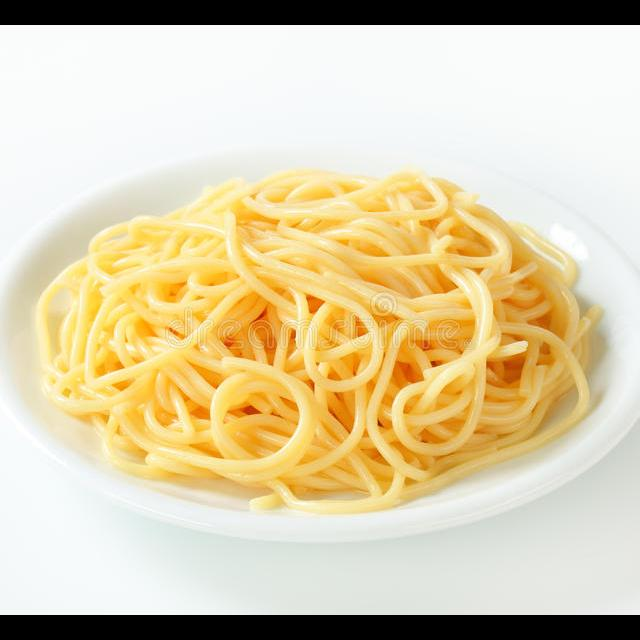noodles: (35, 170, 600, 516)
